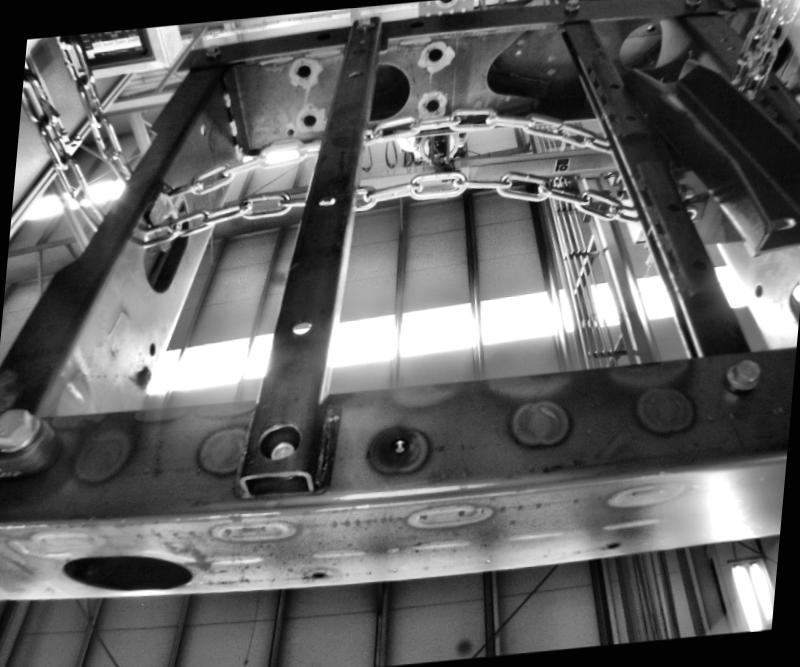bolt: (0, 402, 44, 466), (720, 359, 767, 394), (131, 366, 154, 392), (558, 0, 585, 14), (202, 44, 222, 62), (353, 17, 374, 31), (682, 0, 703, 9)
bracket: (141, 174, 191, 260)
hole: (48, 542, 208, 602), (610, 13, 669, 74), (260, 422, 302, 464), (286, 318, 314, 343), (384, 436, 410, 460), (314, 194, 338, 211), (420, 98, 439, 116), (293, 64, 312, 80), (663, 199, 680, 216), (300, 113, 317, 130), (690, 258, 706, 274), (749, 284, 765, 300), (344, 68, 364, 80), (426, 49, 442, 63), (604, 540, 620, 554), (314, 32, 334, 42), (310, 570, 326, 582), (607, 80, 620, 92), (148, 343, 158, 356), (408, 21, 424, 29), (790, 114, 799, 128), (355, 38, 366, 48), (624, 114, 635, 123), (766, 84, 777, 92), (716, 36, 728, 42), (286, 129, 294, 136), (724, 46, 734, 51)
welding: (218, 91, 234, 111), (226, 118, 239, 137), (232, 144, 244, 162)
